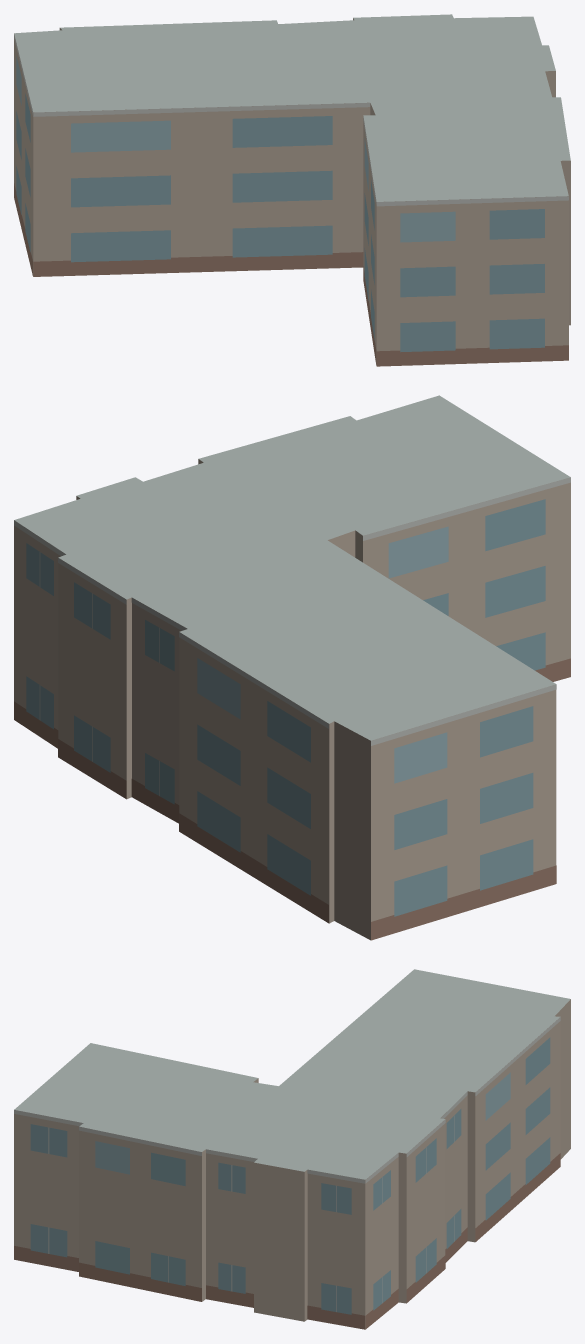
File: survey-upis-32553100.glb
The picture shows the model from 3 angles, top to bottom: view 1: azimuth 30°, elevation 25°; view 2: azimuth 150°, elevation 25°; view 3: azimuth 270°, elevation 25°; orthographic projection. The views are drawn at different scales.
Parts seen in each view (by area): view 1: survey-upis-32553100.tmp; view 2: survey-upis-32553100.tmp; view 3: survey-upis-32553100.tmp.
Part boxes in pixels (bbox=[...]): survey-upis-32553100.tmp: bbox=[14, 14, 570, 366]; survey-upis-32553100.tmp: bbox=[14, 395, 570, 940]; survey-upis-32553100.tmp: bbox=[14, 969, 570, 1329].
Size of the model in its own units: 27.57 by 9.15 by 30.81.
